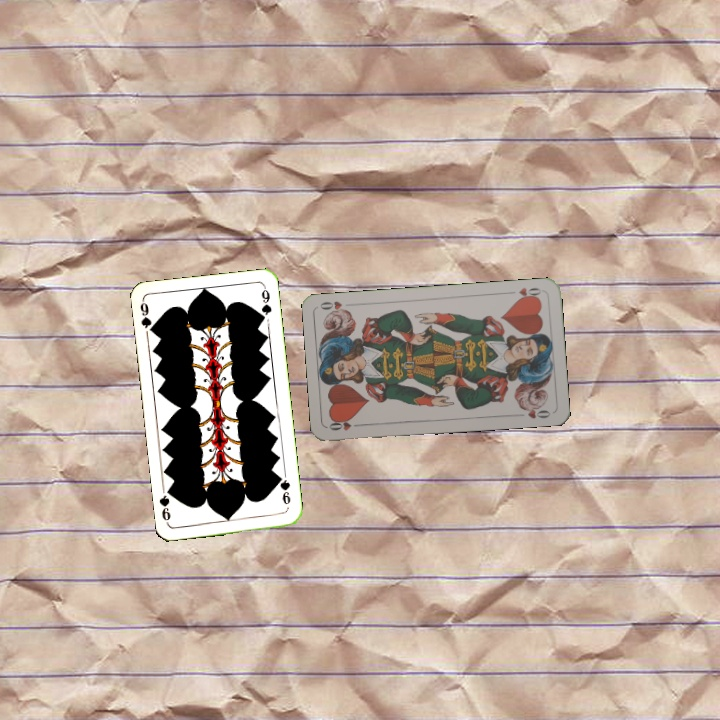G9: (136, 297, 157, 336), (275, 472, 293, 507)
HO: (325, 416, 365, 433), (513, 283, 544, 302)
